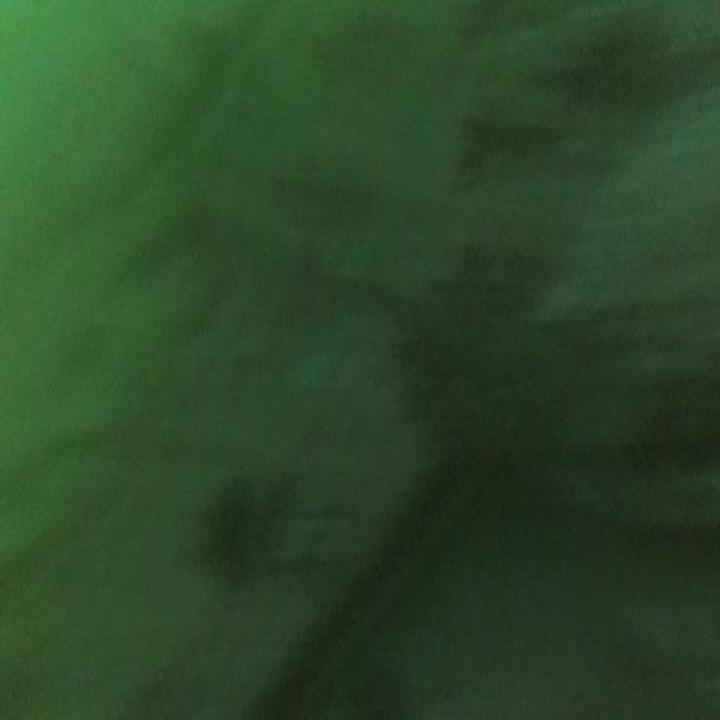echinus: (203, 469, 261, 585)
